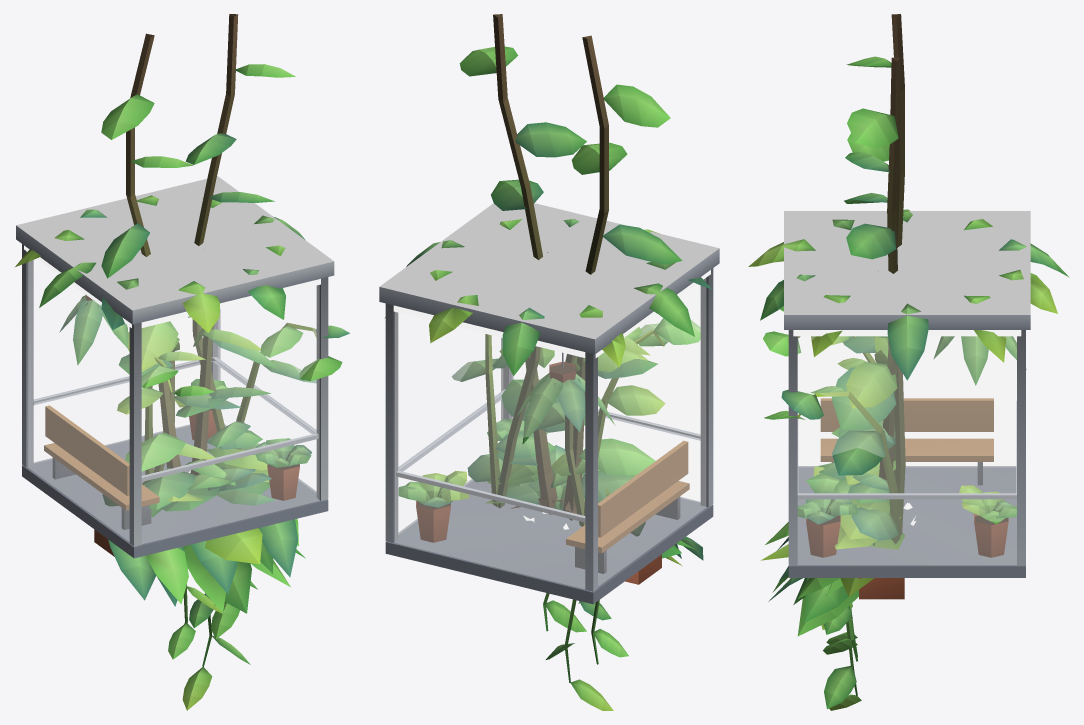
File: mundo-depois.glb
The picture shows the model from 3 angles, left to right: view 1: azimuth 30°, elevation 25°; view 2: azimuth 150°, elevation 25°; view 3: azimuth 270°, elevation 25°; orthographic projection. The views are drawn at different scales.
Visible parts, largest first — view 1: cabine_vidro, cabine_solido, trep_meio_solido, trep_base_solido, tufo_a_solido, trep_topo_solido, tufo_b_solido, tufo_c_solido, cabine_luz; view 2: cabine_solido, cabine_vidro, trep_meio_solido, trep_base_solido, trep_topo_solido, tufo_c_solido, cabine_luz, tufo_a_solido, tufo_b_solido; view 3: cabine_solido, cabine_vidro, trep_meio_solido, trep_topo_solido, trep_base_solido, tufo_b_solido, tufo_c_solido, tufo_a_solido, cabine_luz.
Boxes of the visible parts, x1,y1,x2,y2 form: cabine_vidro: (28,259,319,543); cabine_solido: (14,176,334,558); trep_meio_solido: (101,14,295,485); trep_base_solido: (119,316,279,517); tufo_a_solido: (94,467,298,613); trep_topo_solido: (117,322,349,474); tufo_b_solido: (160,468,305,613); tufo_c_solido: (168,562,257,710); cabine_luz: (24,245,320,327); cabine_solido: (379,203,719,604); cabine_vidro: (395,278,706,588); trep_meio_solido: (459,14,682,526); trep_base_solido: (485,337,657,520); trep_topo_solido: (452,318,700,515); tufo_c_solido: (530,485,628,710); cabine_luz: (393,270,710,357); tufo_a_solido: (513,468,703,584); tufo_b_solido: (528,445,694,565); cabine_solido: (748,209,1069,577); cabine_vidro: (797,336,1016,564); trep_meio_solido: (844,14,905,540); trep_topo_solido: (763,306,900,544); trep_base_solido: (818,336,904,596); tufo_b_solido: (761,466,858,636); tufo_c_solido: (821,603,861,710); tufo_a_solido: (765,522,904,604); cabine_luz: (793,330,1021,336).
Size of the model in its own units: 3.69 by 8.37 by 3.53.
